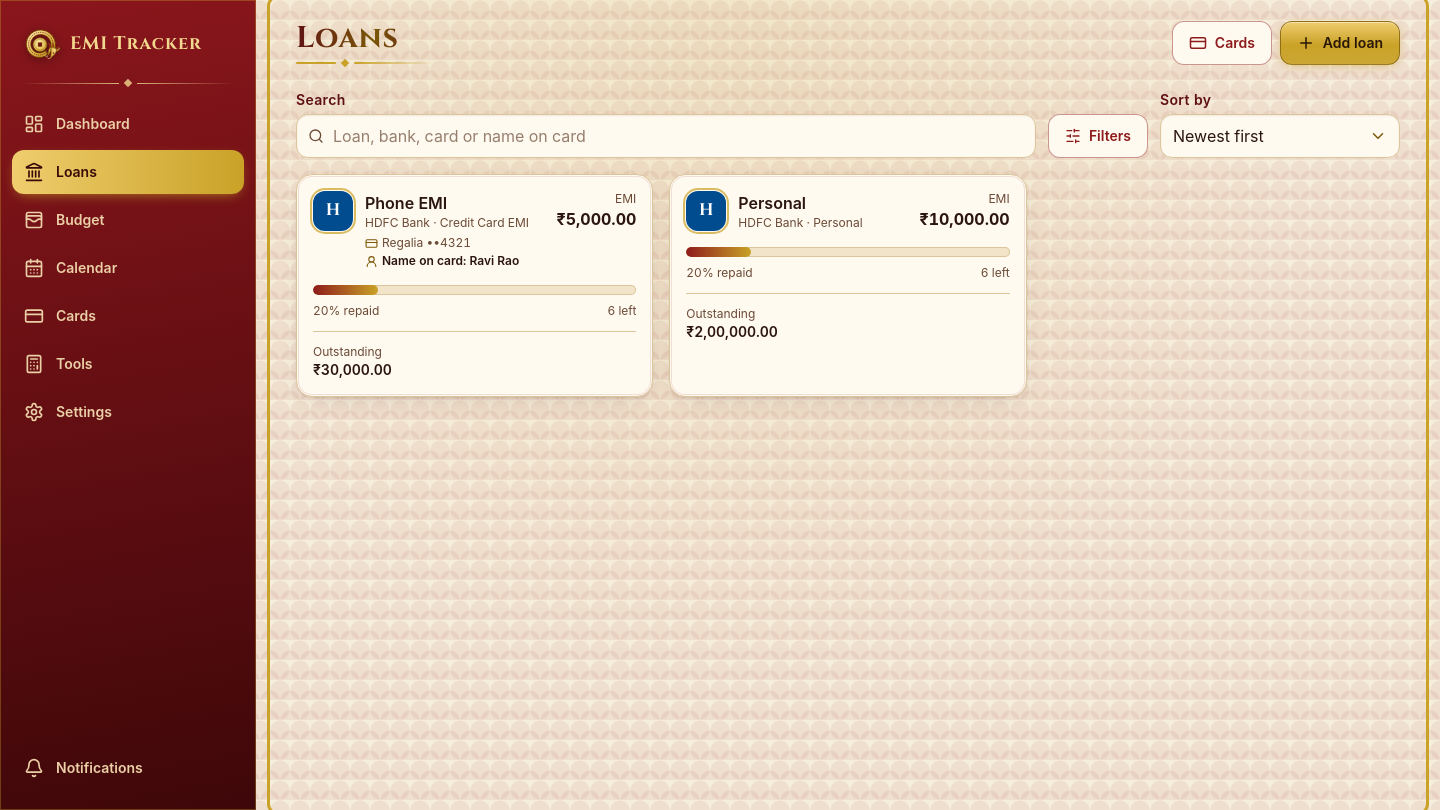
Test: loan filters › filters by a specific card, shows chips and clears
Click the button "Filters": (1098, 136) [1048,114,1148,158]
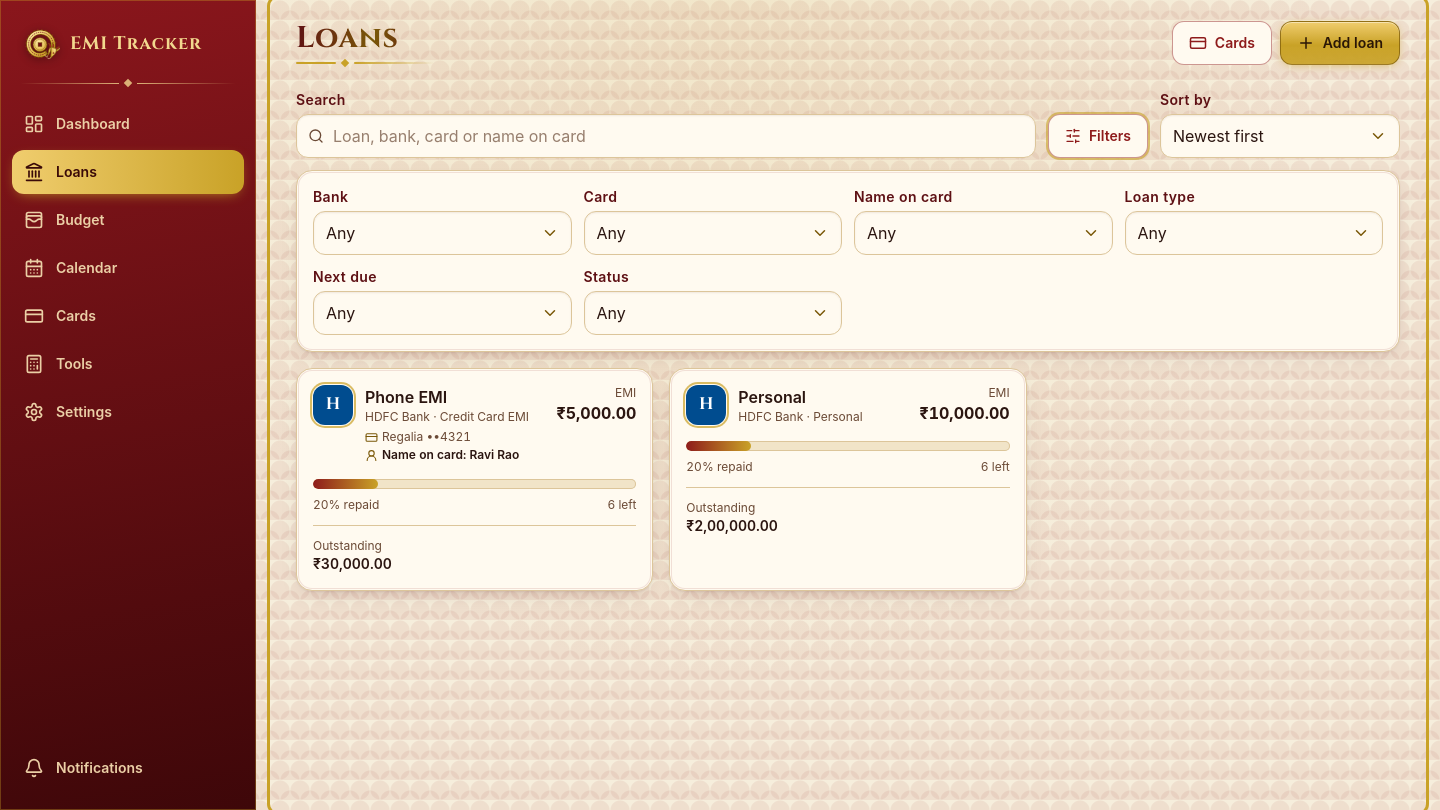
Click the dropdown named "Card": (713, 233) [584,211,842,255]
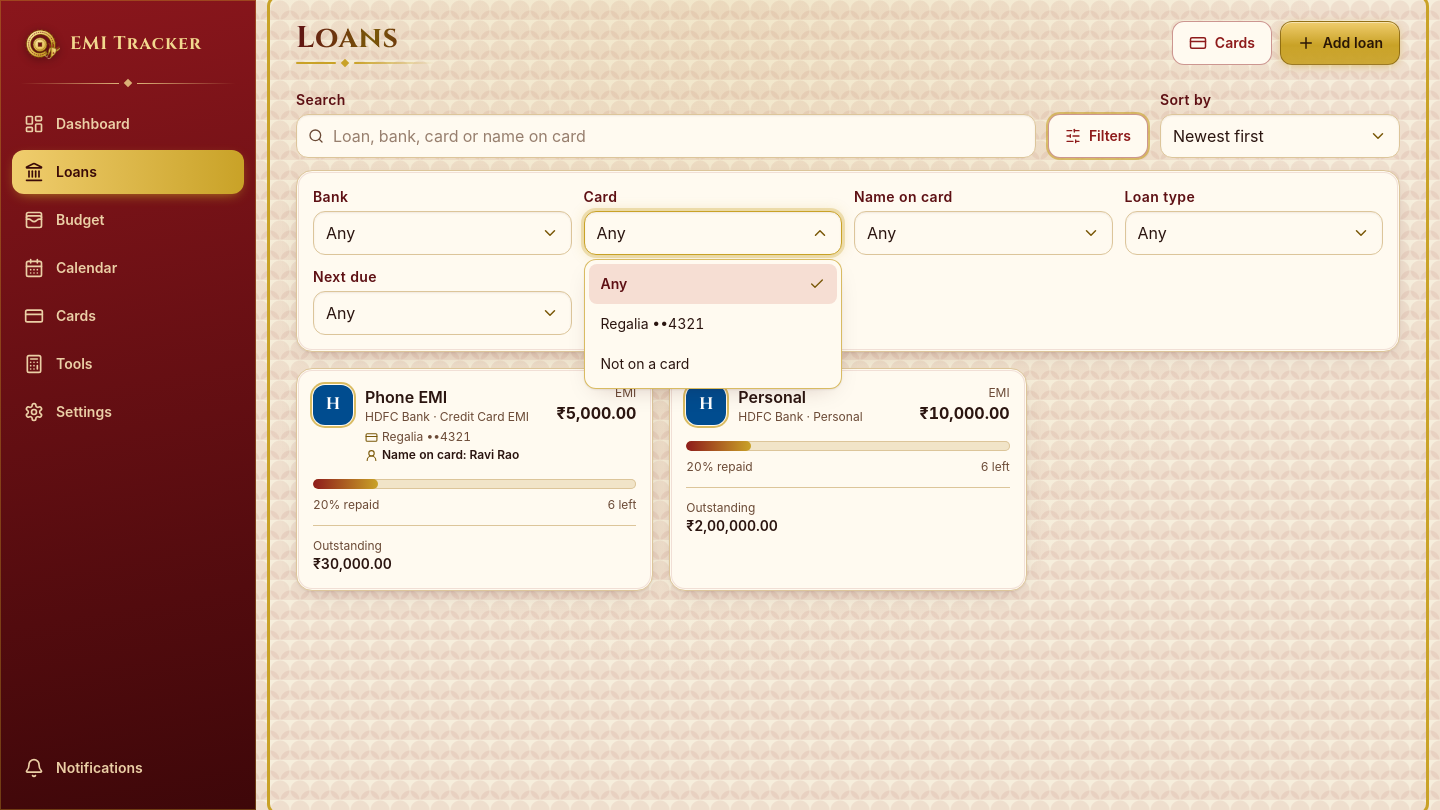
Click the option "Regalia ••4321": (652, 324) [600,315,704,332]
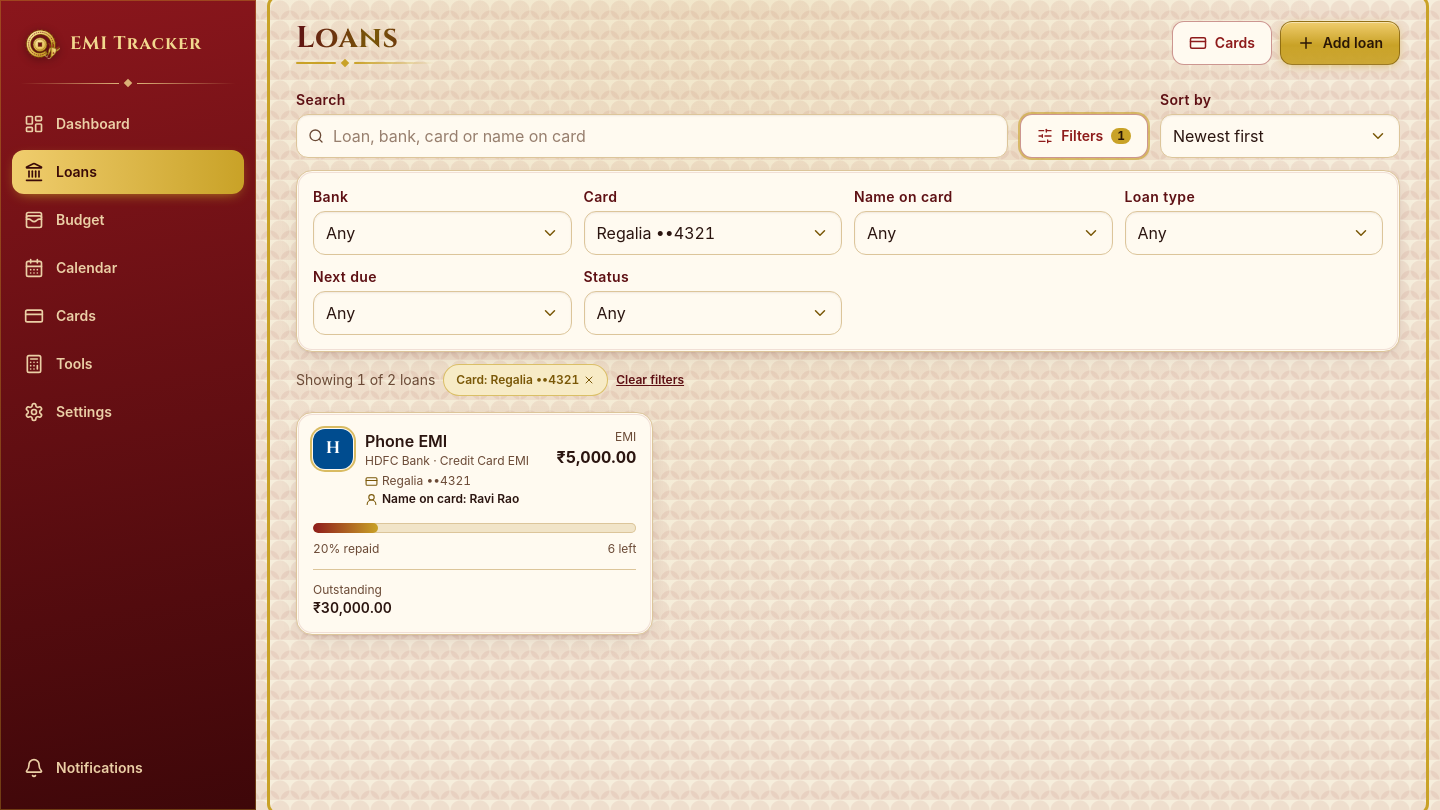
Expected: the text "Showing 1 of 2 loans" is shown, [296,370,435,390]
Expected: the link "Personal" is gone
Expected: the button with aria-label "Remove filter: Card: Regalia ••4321" is shown, [443,364,608,396]
Click the button "Clear filters": (650, 380) [616,372,684,388]
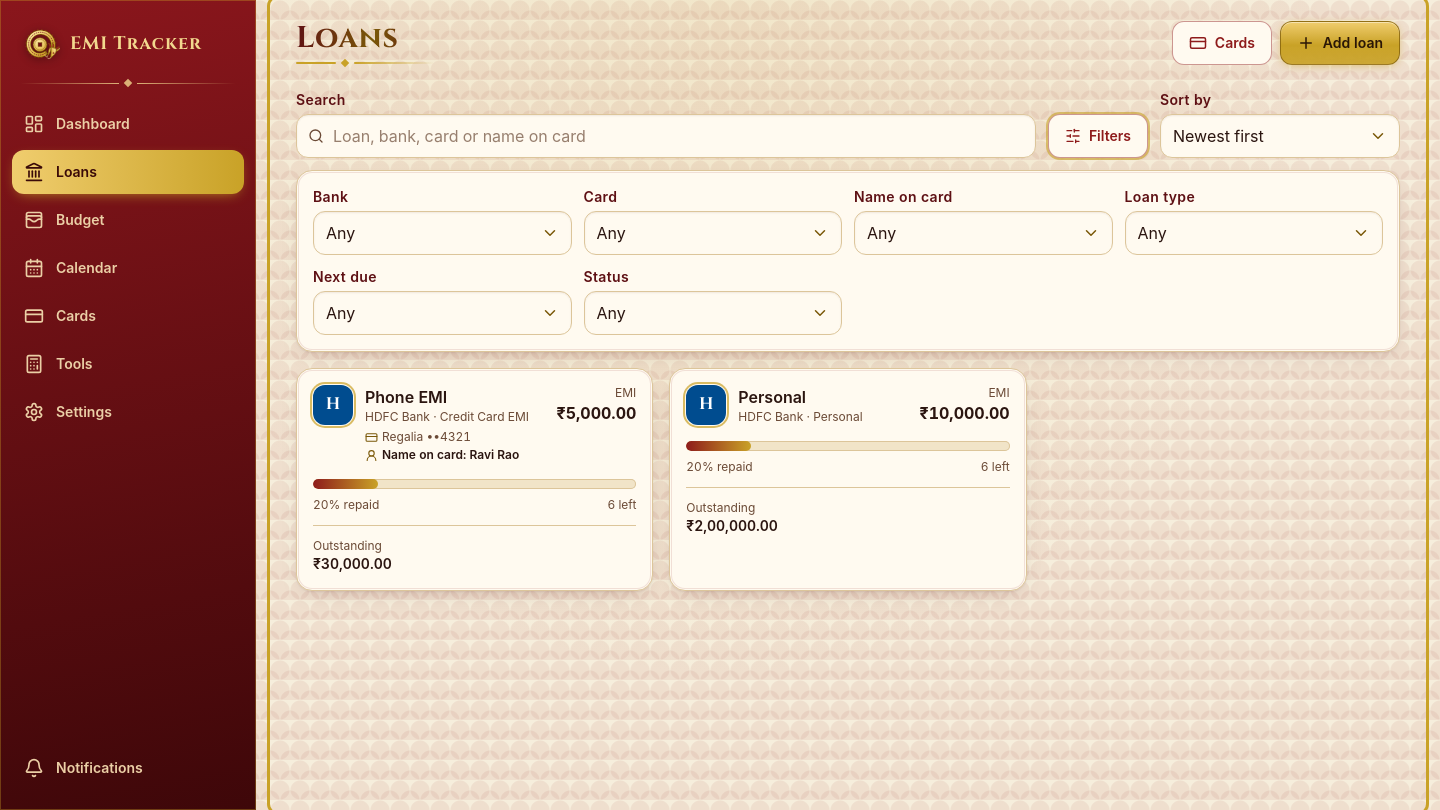
Expected: the text "Personal" is shown, [738,387,806,407]
